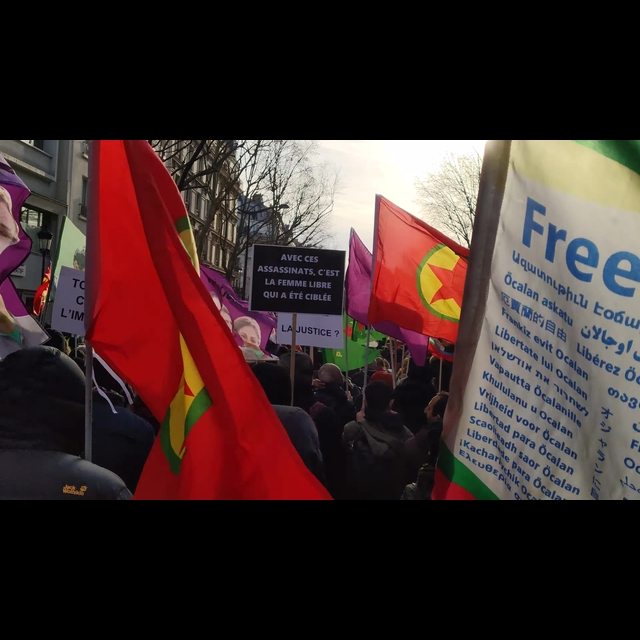PKK: (410, 230, 485, 323)
